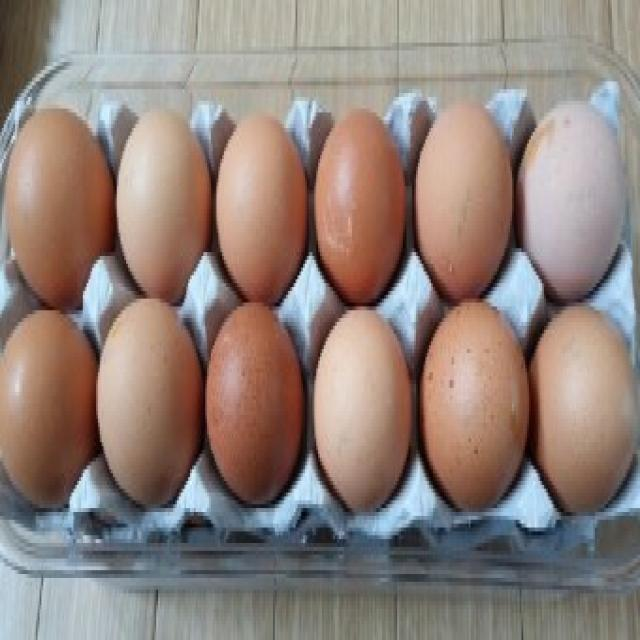eggs: (521, 291, 640, 512), (414, 304, 532, 524), (512, 93, 628, 304), (408, 94, 520, 306), (307, 302, 413, 520), (90, 294, 199, 502), (1, 110, 119, 302), (198, 303, 310, 503), (0, 299, 102, 512), (313, 105, 408, 315), (214, 113, 312, 311), (117, 105, 215, 302)
